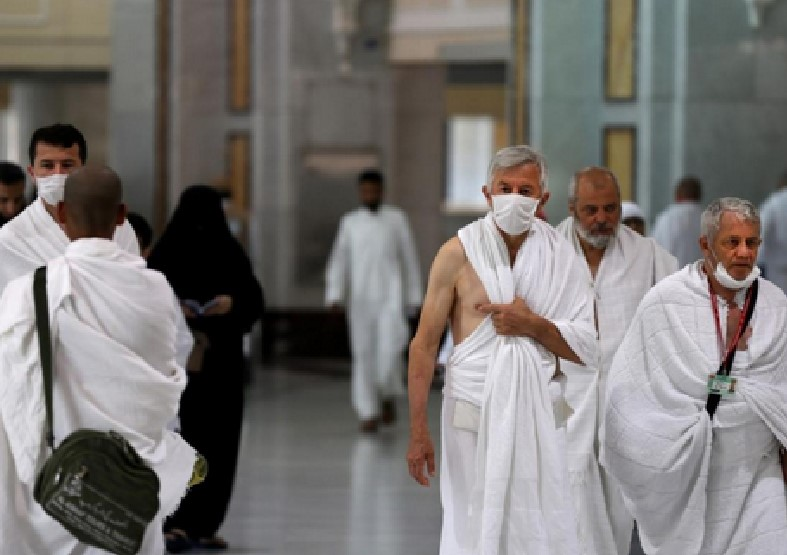face_no_mask: (573, 171, 620, 245)
face_with_mask: (702, 202, 760, 287), (486, 152, 547, 232), (30, 128, 83, 210)
